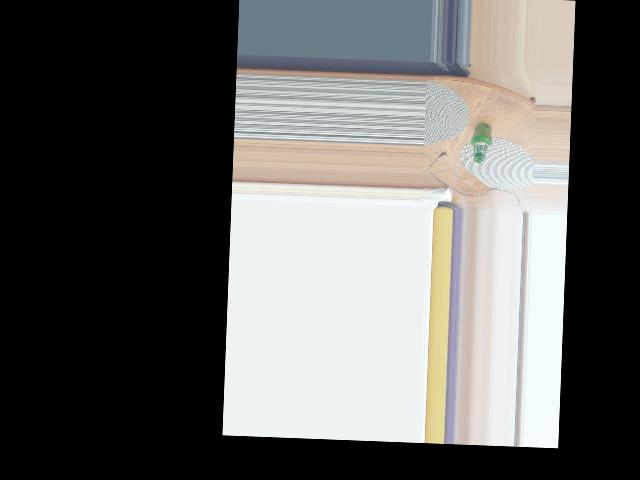beer: (470, 122, 493, 163)
